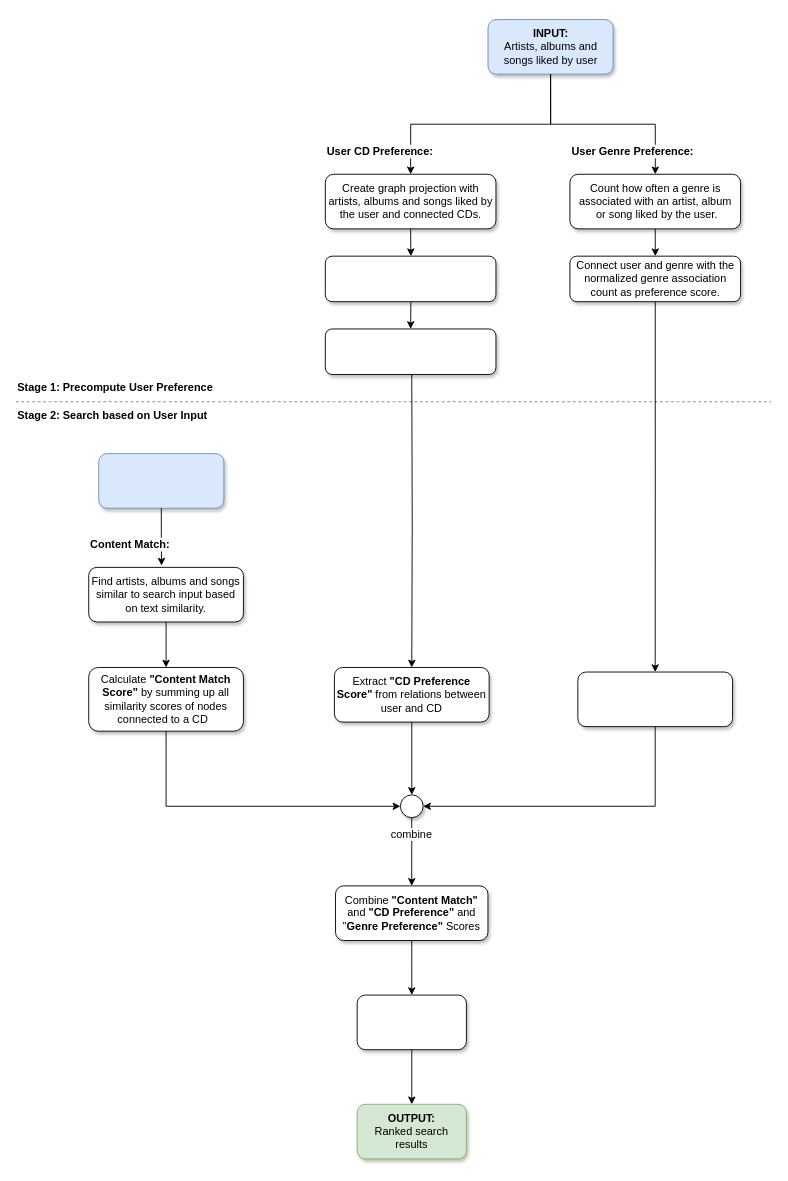
This 788x1181 diagram has some shape labels left out. The centre of each missing label's shape, as x and y in pixels:
Compute node centrality in subgraph.: (x=411, y=280)
Connect user and CD with node centrality as preference score.: (x=411, y=352)
Extract "Genre Preference Score" from relations between user and genre: (x=655, y=700)
INPUT: Search query: (x=161, y=482)
Rank resulting list according to combined score: (x=412, y=1023)
